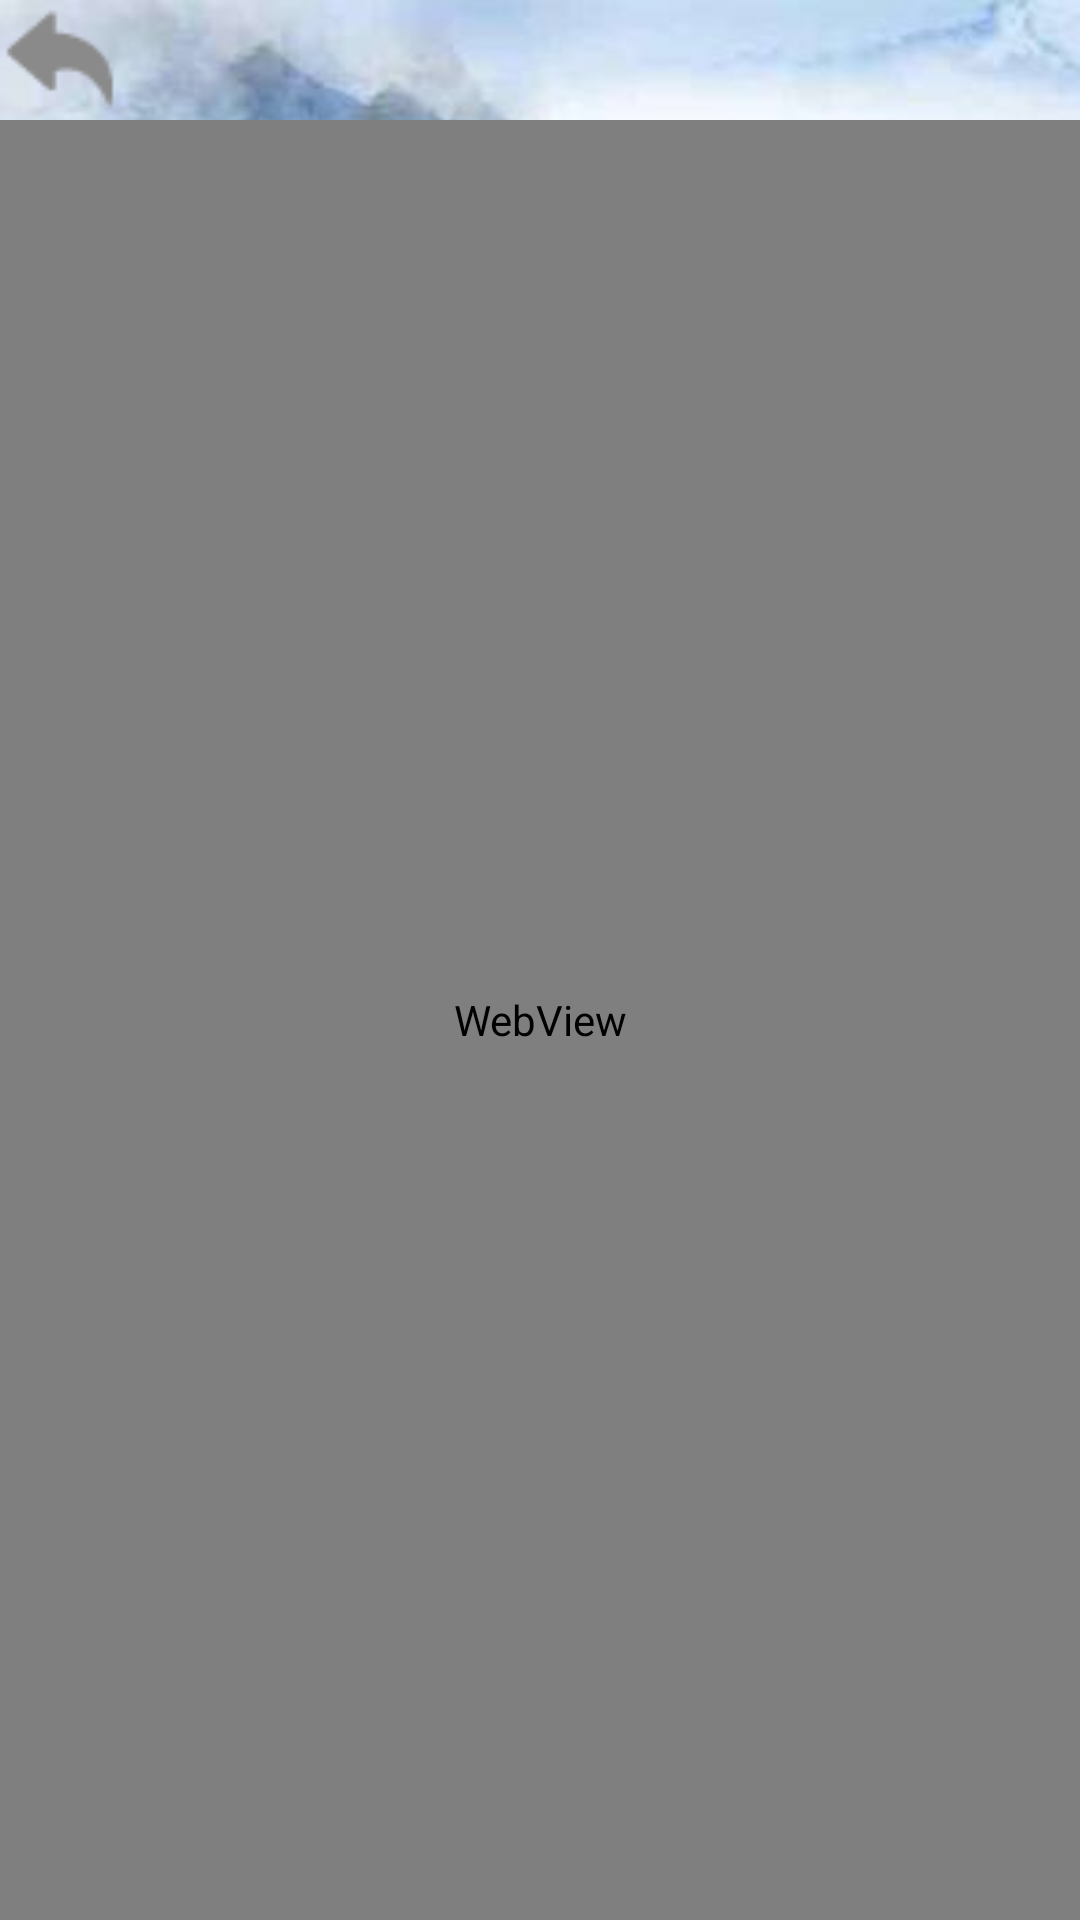

Named icons in this screenshot (1080w x 1920h) and their centers, (x=x, y=y):
back: (x=60, y=60)
